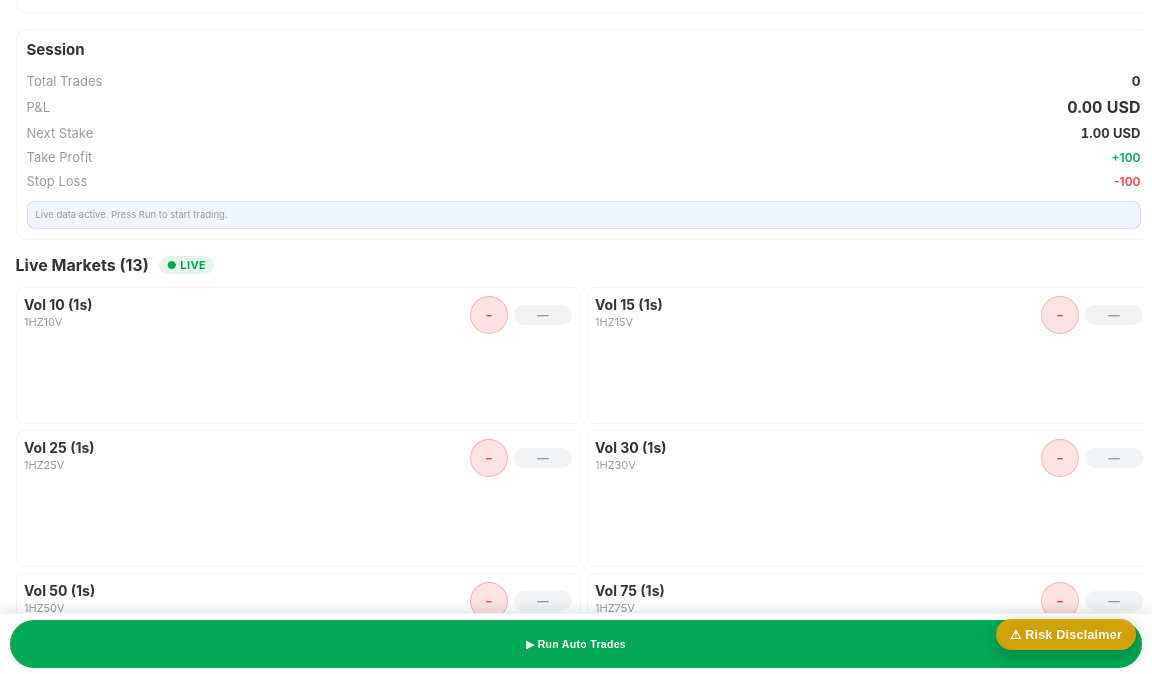
Test: <AutoTrades /> › allows removing markets directly from market cards
(page scrolled)
// Click the first remove button
Click the 1st button titled "Remove from Auto Trades".
click(489, 315)  # box [470,296,508,334]
(page scrolled)
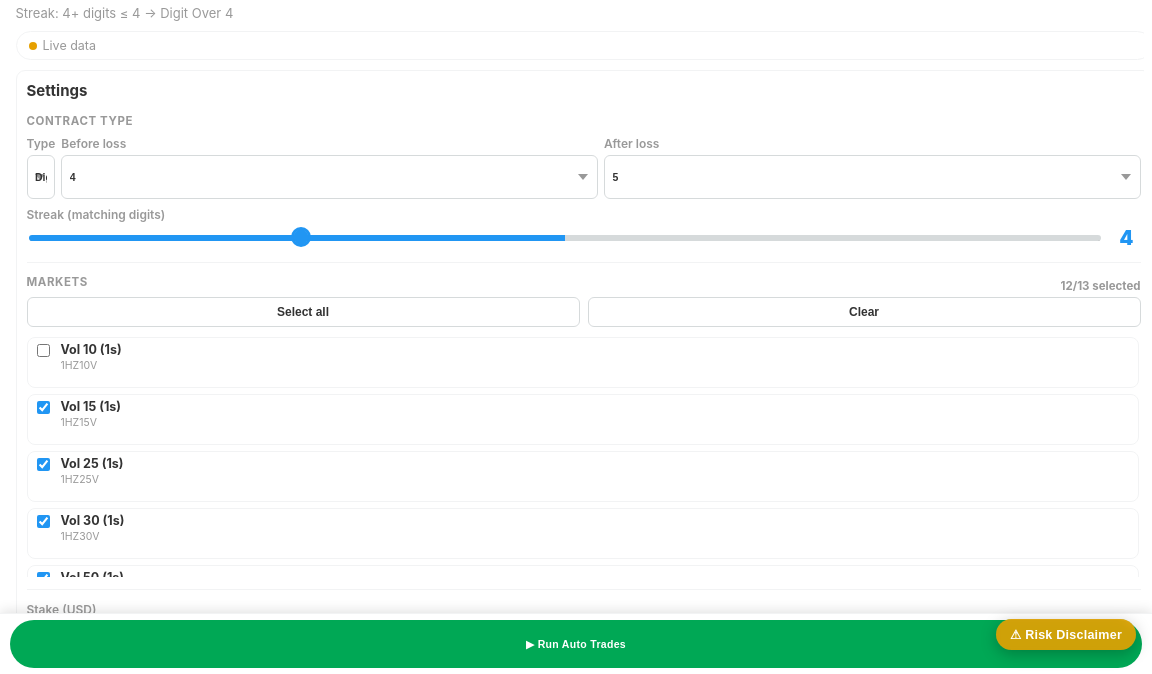
expect the text "12/13 selected" is shown: met, box [1060,279,1140,293]
